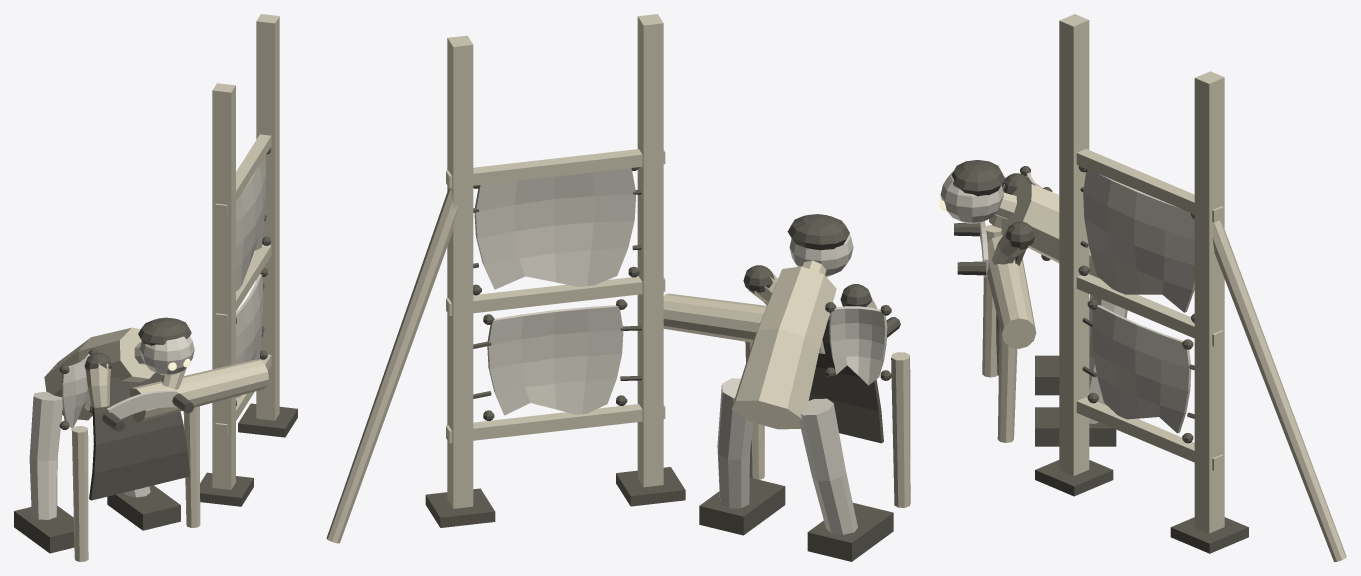
Rendered from tanner.glb.
The picture shows the model from 3 angles, left to right: view 1: azimuth 30°, elevation 25°; view 2: azimuth 150°, elevation 25°; view 3: azimuth 270°, elevation 25°; orthographic projection. The views are drawn at different scales.
Visible parts, largest first — view 1: tanner_body, tanner_dark, tanner_bone; view 2: tanner_body, tanner_bone, tanner_dark; view 3: tanner_body, tanner_bone, tanner_dark.
Part boxes in pixels (x1,y1,x2,y2): tanner_body: [44, 14, 279, 561]; tanner_dark: [14, 148, 297, 553]; tanner_bone: [29, 156, 266, 519]; tanner_body: [326, 14, 910, 543]; tanner_bone: [474, 168, 887, 534]; tanner_dark: [425, 167, 900, 561]; tanner_body: [982, 14, 1346, 561]; tanner_bone: [940, 169, 1194, 433]; tanner_dark: [951, 160, 1248, 553].
Size of the model in its own units: 2.5 by 2.75 by 2.21.
